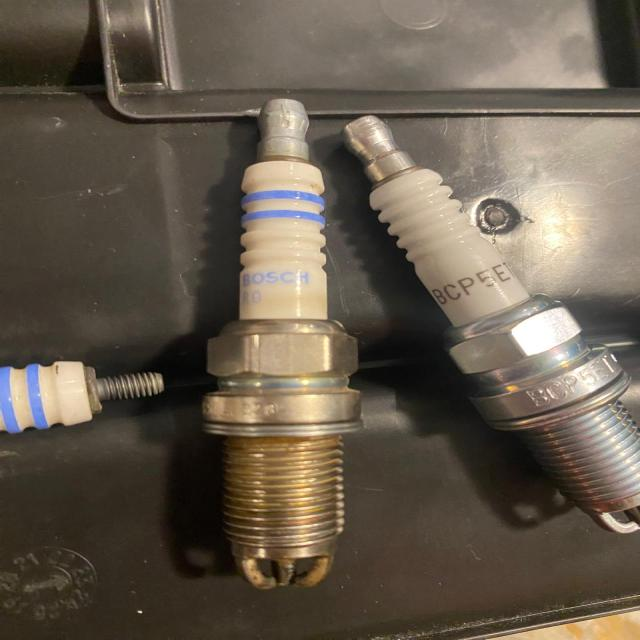spark-plug: (345, 110, 640, 541), (231, 98, 341, 593)
